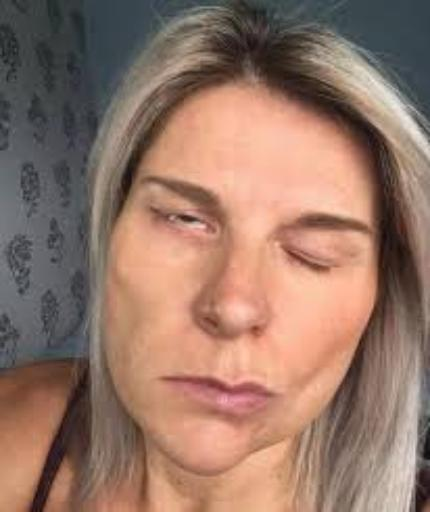left_eye: (278, 245, 342, 276)
left_lip_corner: (268, 385, 287, 405)
right_eye: (153, 210, 216, 235)
right_lip_corner: (154, 369, 181, 391)
